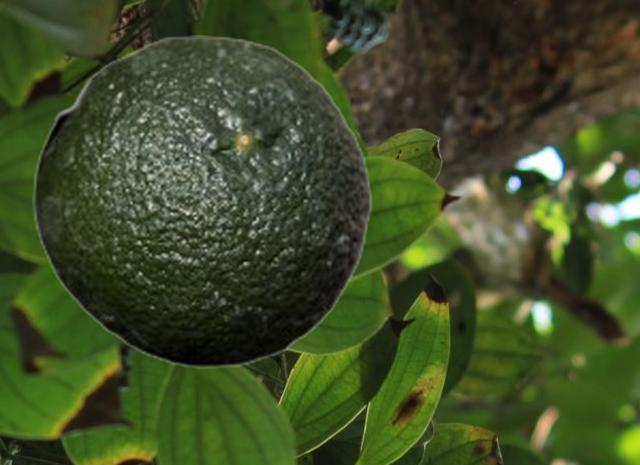calamansi: (32, 35, 372, 367)
